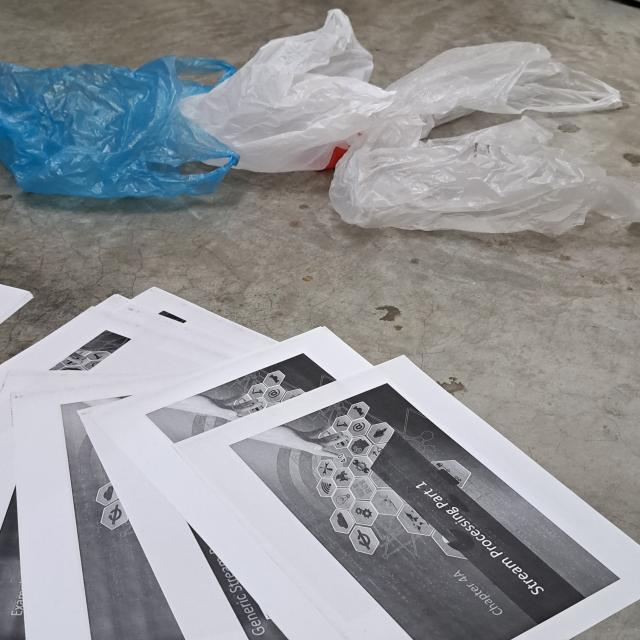paper: (0, 281, 640, 640)
plastic bag: (0, 9, 624, 230)
